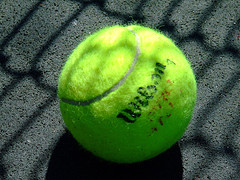tennis ball: (55, 22, 198, 164)
